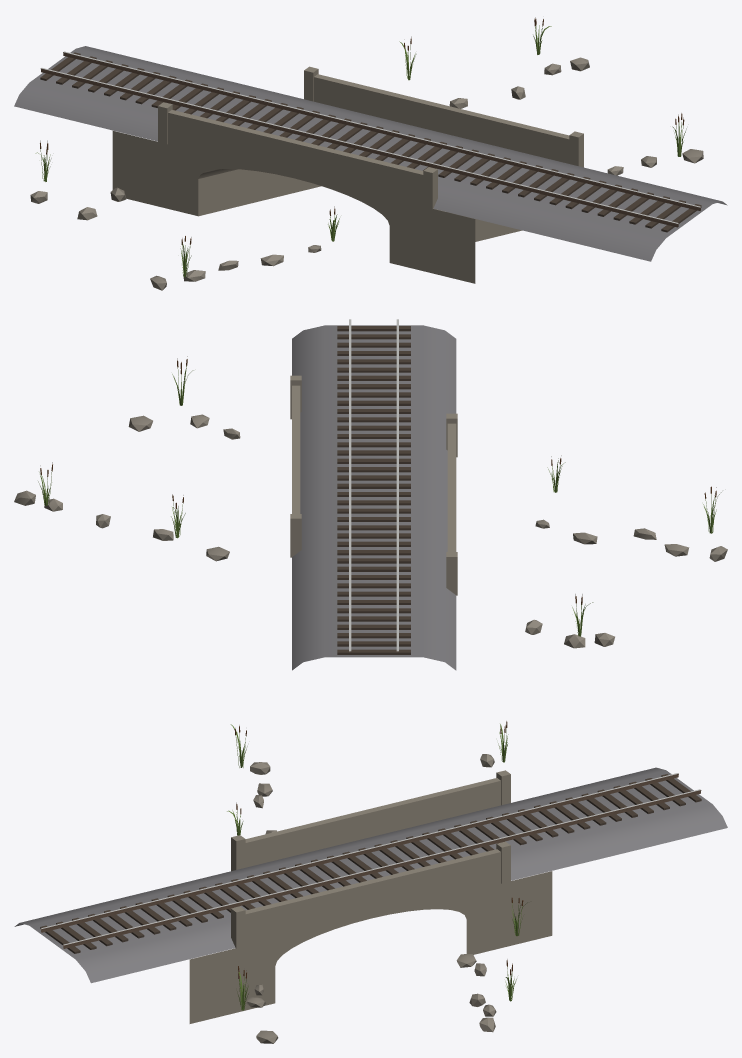
The model's file is river_rail_bridge_center.glb.
3 renders of one model, top to bottom at view 1: azimuth 30°, elevation 25°; view 2: azimuth 150°, elevation 25°; view 3: azimuth 270°, elevation 25°, orthographic. The views are drawn at different scales.
Visible parts, largest first — view 1: river_rail_bridge_center_lod0; view 2: river_rail_bridge_center_lod0; view 3: river_rail_bridge_center_lod0.
Part boxes in pixels (<box>): river_rail_bridge_center_lod0: <box>14,17,727,290</box>; river_rail_bridge_center_lod0: <box>14,319,727,670</box>; river_rail_bridge_center_lod0: <box>14,721,727,1043</box>.
Size of what is drawn, in the model's own units: 24.46 by 4.31 by 26.9.
